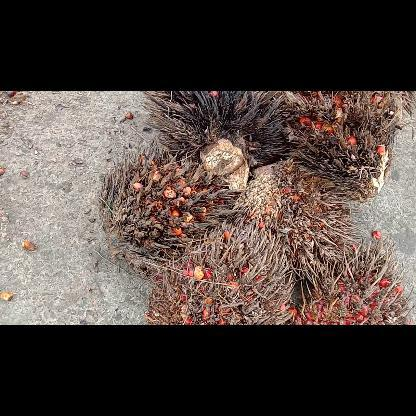Terlalu masak: (98, 140, 238, 276), (235, 158, 367, 280), (148, 218, 292, 324), (141, 91, 285, 191), (282, 90, 406, 202), (295, 240, 415, 324)
